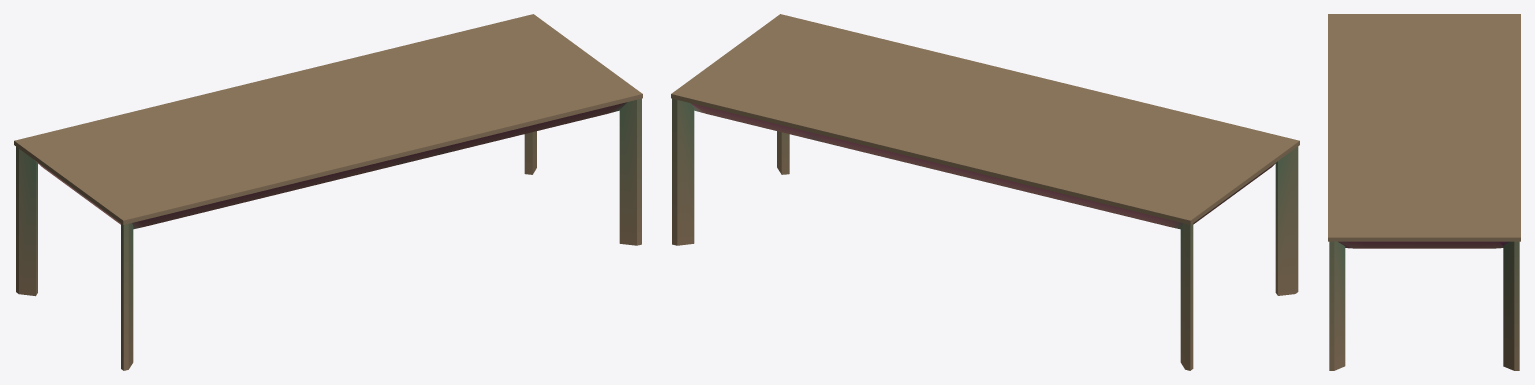
3 views of the same model, side by side, from view 1: azimuth 30°, elevation 25°; view 2: azimuth 150°, elevation 25°; view 3: azimuth 270°, elevation 25° (orthographic). The views are drawn at different scales.
Visible parts, largest first — view 1: top, leg.001, leg.002, leg, leg.003; view 2: top, leg, leg.003, leg.002, leg.001; view 3: top, leg.003, leg.001.
Boxes of the visible parts, left/top/right/bottom form: top: left=14, top=14, right=642, bottom=229; leg.001: left=619, top=98, right=641, bottom=245; leg.002: left=16, top=147, right=37, bottom=296; leg: left=121, top=223, right=133, bottom=370; leg.003: left=524, top=131, right=536, bottom=174; top: left=671, top=14, right=1299, bottom=229; leg: left=1275, top=146, right=1298, bottom=295; leg.003: left=672, top=98, right=694, bottom=245; leg.002: left=1180, top=223, right=1193, bottom=370; leg.001: left=777, top=131, right=789, bottom=174; top: left=1328, top=14, right=1520, bottom=248; leg.003: left=1503, top=241, right=1519, bottom=370; leg.001: left=1329, top=241, right=1345, bottom=370.
Size of the model in its own units: 4 by 1.11 by 1.46.
